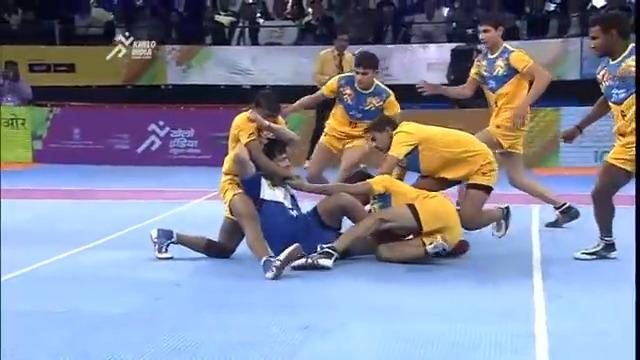Player: (414, 14, 580, 228), (149, 88, 303, 279), (559, 7, 636, 260), (361, 113, 511, 238), (286, 170, 470, 270), (279, 48, 400, 185)
Raider: (233, 135, 373, 268)
referee: (304, 27, 356, 164)
